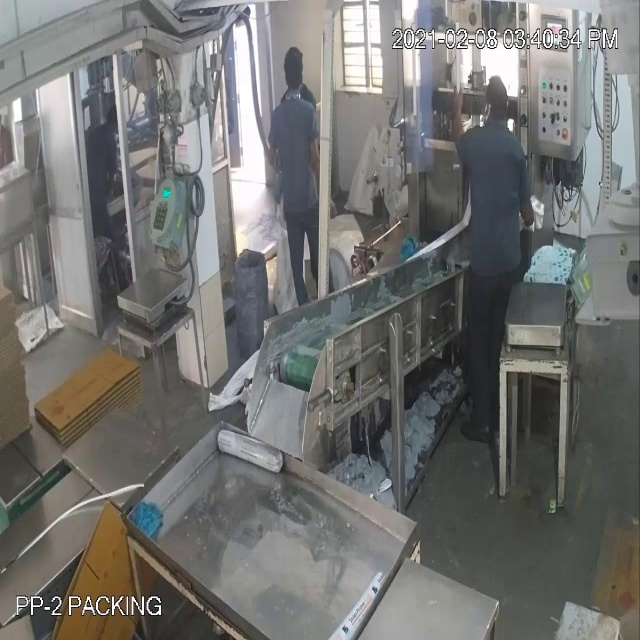Sin_guantes: (443, 73, 468, 148)
